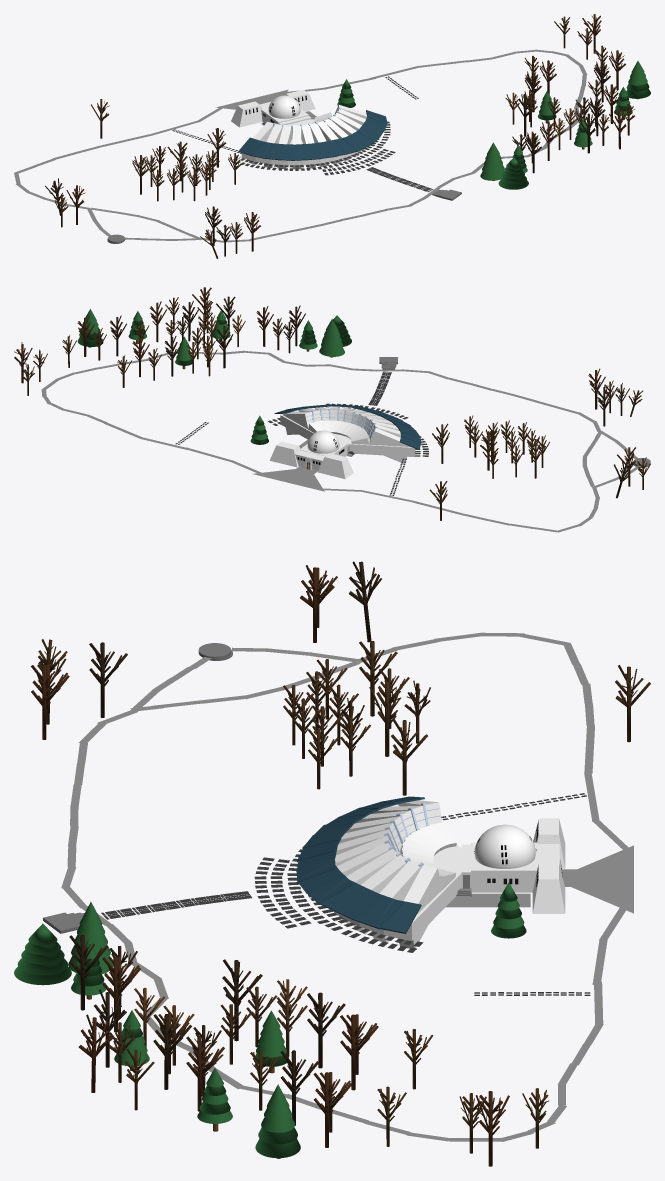
Rendered from update_museum_22_07.obj.
3 renders of one model, top to bottom at view 1: azimuth 30°, elevation 25°; view 2: azimuth 150°, elevation 25°; view 3: azimuth 270°, elevation 25°, orthographic. The views are drawn at different scales.
Visible parts, largest first — view 1: Plane.001, Cube.047, Cube.033, Plane.131, syningarsalur, Sphere, h_hlid; view 2: Plane.001, Cube.033, syningarsalur, Cube.047, h_hlid, Sphere, v_hlid, Plane.131; view 3: Plane.001, Cube.033, Cube.047, Plane.131, Sphere, syningarsalur, innanhus, v_hlid, Plane.067, Cylinder.002, h_hlid.
Part boxes in pixels (<box>): Plane.001: <box>14,49,587,243</box>; Cube.047: <box>238,110,387,160</box>; Cube.033: <box>249,105,366,169</box>; Plane.131: <box>236,121,395,175</box>; syningarsalur: <box>241,119,363,165</box>; Sphere: <box>268,95,300,118</box>; h_hlid: <box>231,101,262,127</box>; Plane.001: <box>41,350,648,532</box>; Cube.033: <box>282,407,410,463</box>; syningarsalur: <box>280,407,415,456</box>; Cube.047: <box>274,404,421,449</box>; h_hlid: <box>317,453,353,478</box>; Sphere: <box>307,430,339,453</box>; v_hlid: <box>269,441,300,467</box>; Plane.131: <box>268,403,428,456</box>; Plane.001: <box>43,632,633,1141</box>; Cube.033: <box>335,800,456,948</box>; Cube.047: <box>296,796,424,933</box>; Plane.131: <box>254,845,423,952</box>; Sphere: <box>474,824,535,868</box>; syningarsalur: <box>333,804,461,941</box>; innanhus: <box>471,842,538,892</box>; v_hlid: <box>532,863,565,913</box>; Plane.067: <box>101,891,251,919</box>; Cylinder.002: <box>475,1091,509,1166</box>; h_hlid: <box>533,818,565,868</box>.
Size of the model in its own units: 160 by 12.29 by 77.98.
